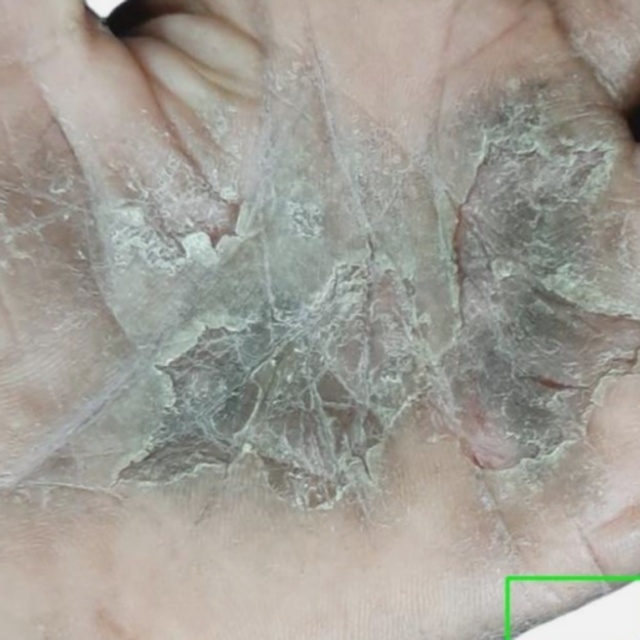Contact Dermatitis: (507, 576, 639, 639)
